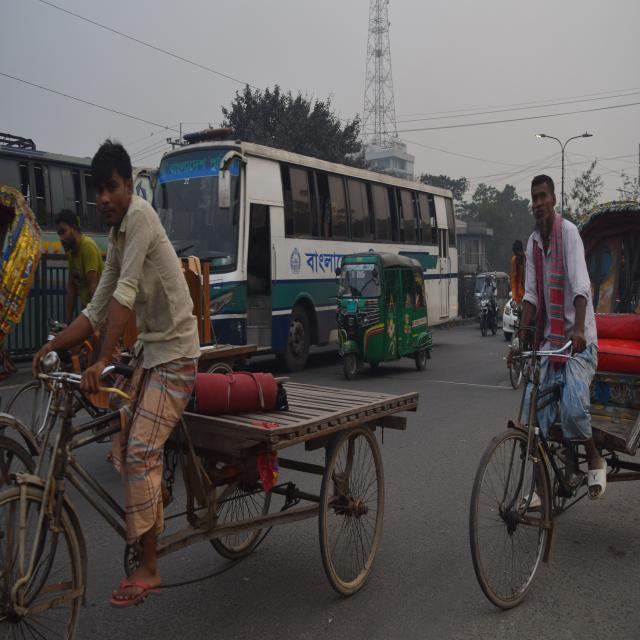bus: (152, 128, 463, 368), (0, 135, 153, 378)
motorbike: (474, 288, 503, 347)
